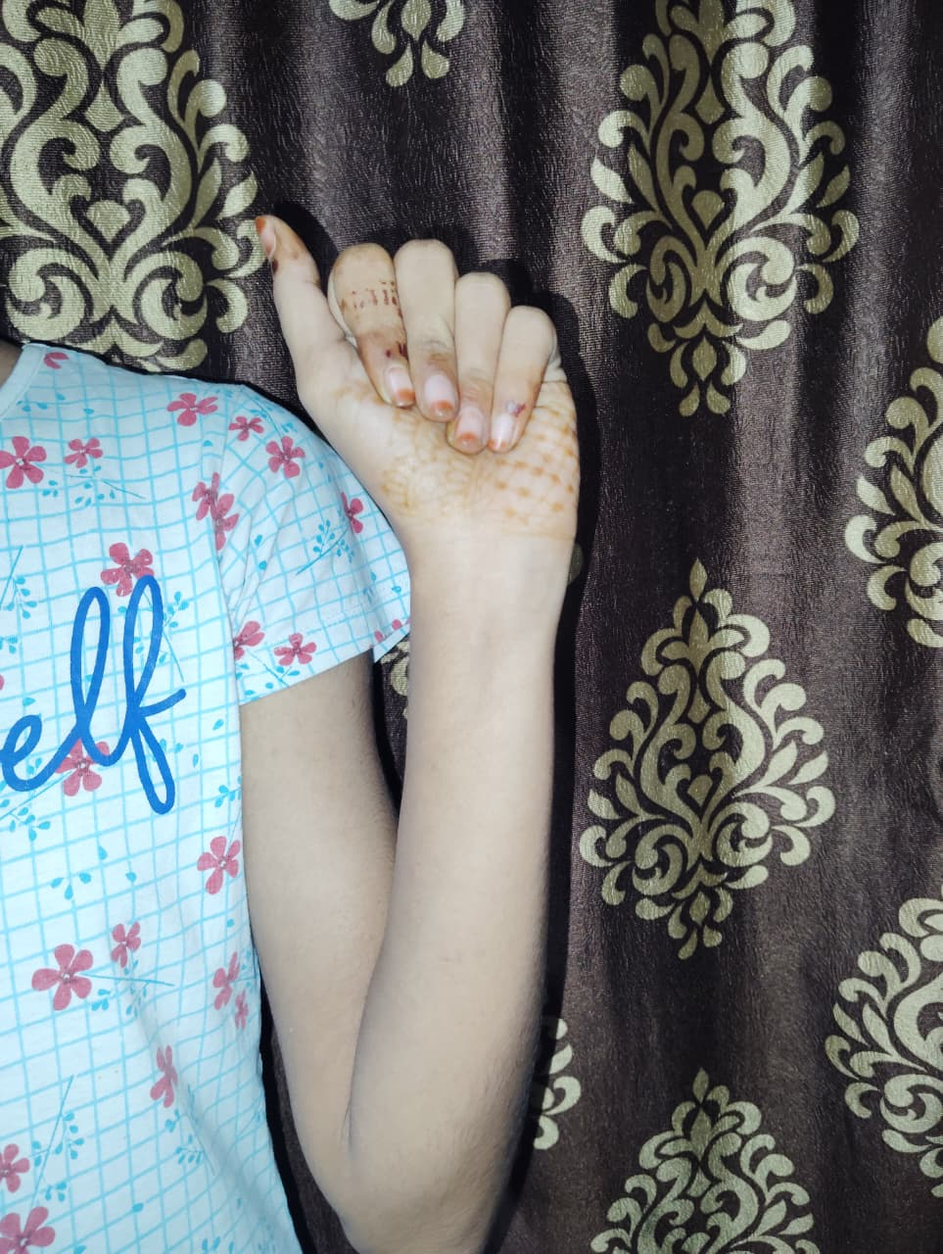A: (259, 214, 581, 583)
